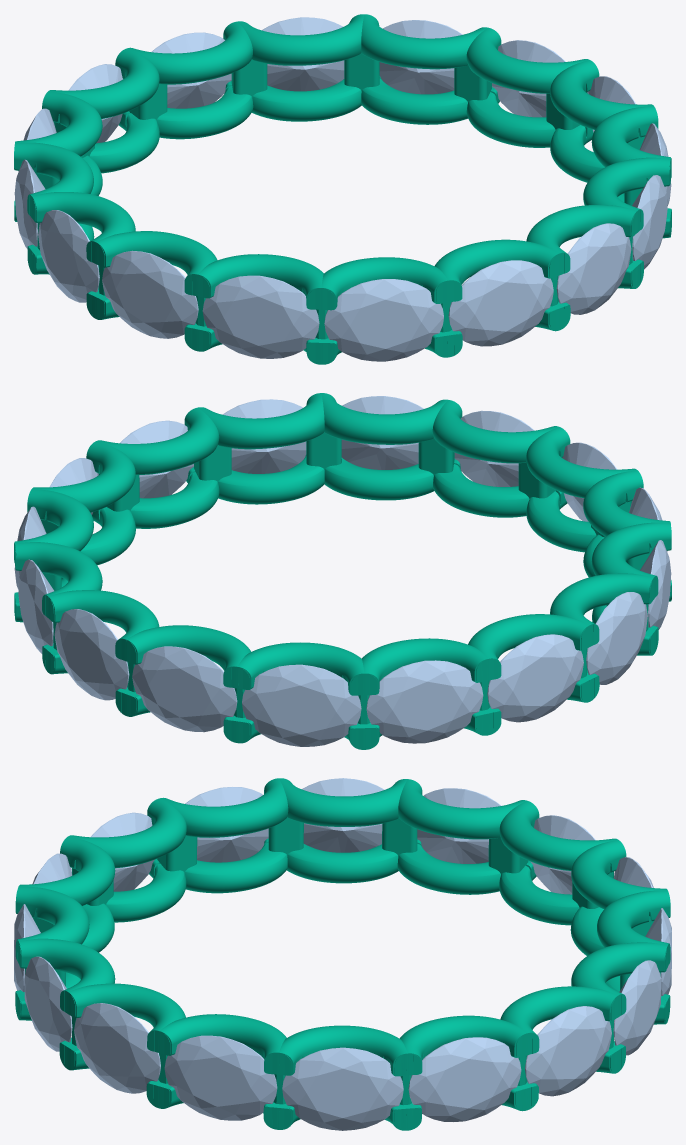
The picture shows the model from 3 angles, top to bottom: view 1: azimuth 30°, elevation 25°; view 2: azimuth 150°, elevation 25°; view 3: azimuth 270°, elevation 25°; orthographic projection.
Visible parts, largest first — view 1: OVAL 4MM(1) (base).3dm, Diamond_Oval (×16); view 2: OVAL 4MM(1) (base).3dm, Diamond_Oval (×16); view 3: OVAL 4MM(1) (base).3dm, Diamond_Oval (×16).
Part boxes in pixels (x1,y1,x2,y2): OVAL 4MM(1) (base).3dm: (14,14,671,364); Diamond_Oval (×16): (14,17,671,361); OVAL 4MM(1) (base).3dm: (14,393,671,749); Diamond_Oval (×16): (14,396,671,746); OVAL 4MM(1) (base).3dm: (15,778,670,1130); Diamond_Oval (×16): (14,778,671,1130).
Size of the model in its own units: 2.81 by 0.4085 by 2.81.
